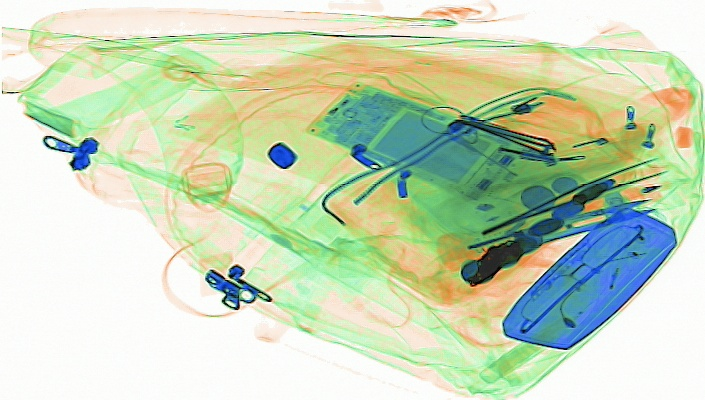scissors: (510, 198, 658, 248)
